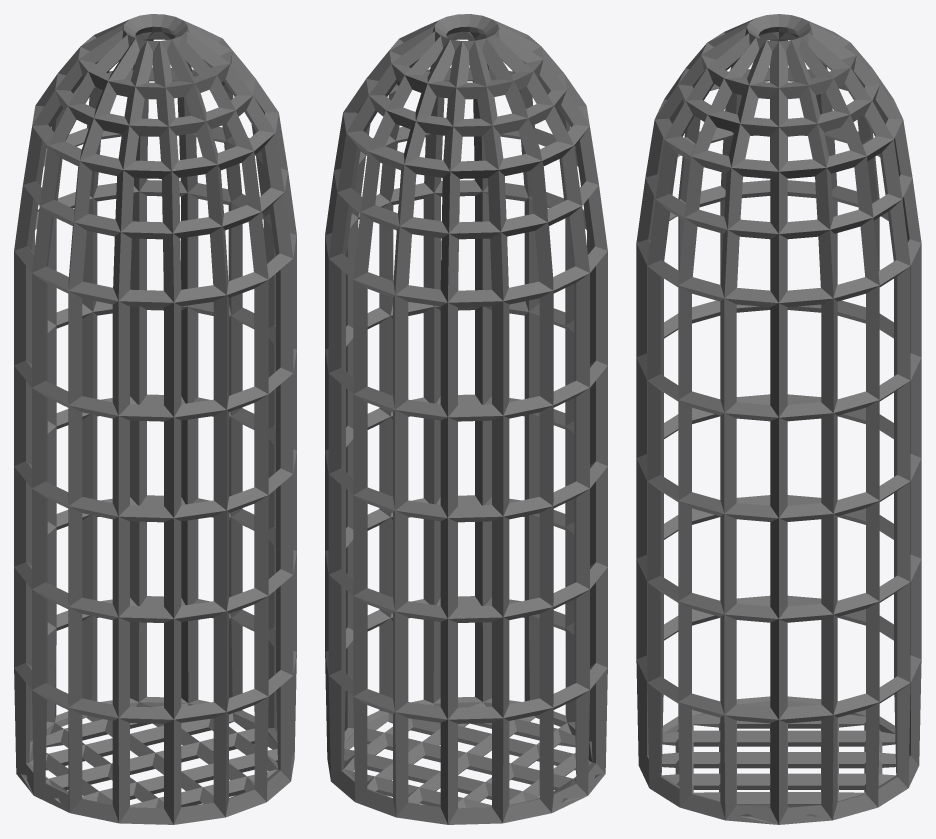
File: LPCP_Cage11.fbx
3 renders of one model, left to right at view 1: azimuth 30°, elevation 25°; view 2: azimuth 150°, elevation 25°; view 3: azimuth 270°, elevation 25°, orthographic.
Parts seen in each view (by area): view 1: LPCP_Cage11; view 2: LPCP_Cage11; view 3: LPCP_Cage11.
Part boxes in pixels (x1,y1,x2,y2): LPCP_Cage11: (14,14,296,824); LPCP_Cage11: (325,14,607,824); LPCP_Cage11: (636,14,921,824).
Bounding box in the file's own units: 2.05 × 5.89 × 2.05.
